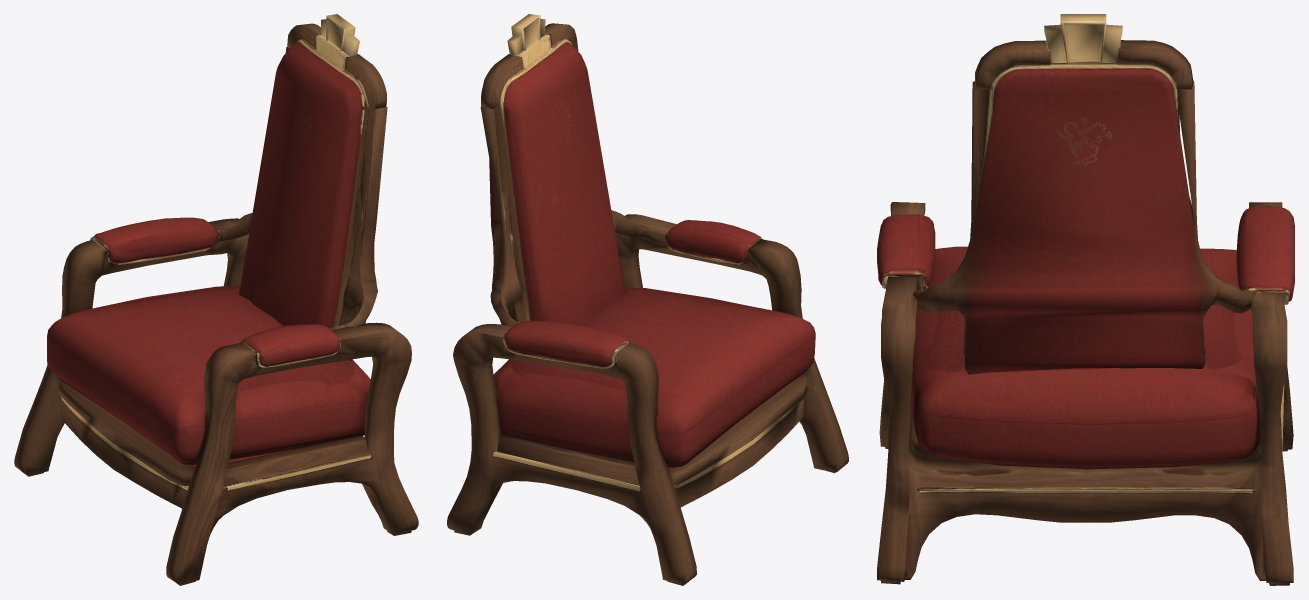
The picture shows the model from 3 angles, left to right: view 1: azimuth 30°, elevation 25°; view 2: azimuth 150°, elevation 25°; view 3: azimuth 270°, elevation 25°; orthographic projection. The views are drawn at different scales.
Visible parts, largest first — view 1: tripo_node_3af80040-3c2d-4f10-80d2-c31c2d8da73c; view 2: tripo_node_3af80040-3c2d-4f10-80d2-c31c2d8da73c; view 3: tripo_node_3af80040-3c2d-4f10-80d2-c31c2d8da73c.
Part boxes in pixels (x1,y1,x2,y2): tripo_node_3af80040-3c2d-4f10-80d2-c31c2d8da73c: (14,14,418,585); tripo_node_3af80040-3c2d-4f10-80d2-c31c2d8da73c: (447,14,848,585); tripo_node_3af80040-3c2d-4f10-80d2-c31c2d8da73c: (877,14,1294,585).
Bounding box in the file's own units: 0.5801 × 0.998 × 0.6582.
1 material, 1 textured.
